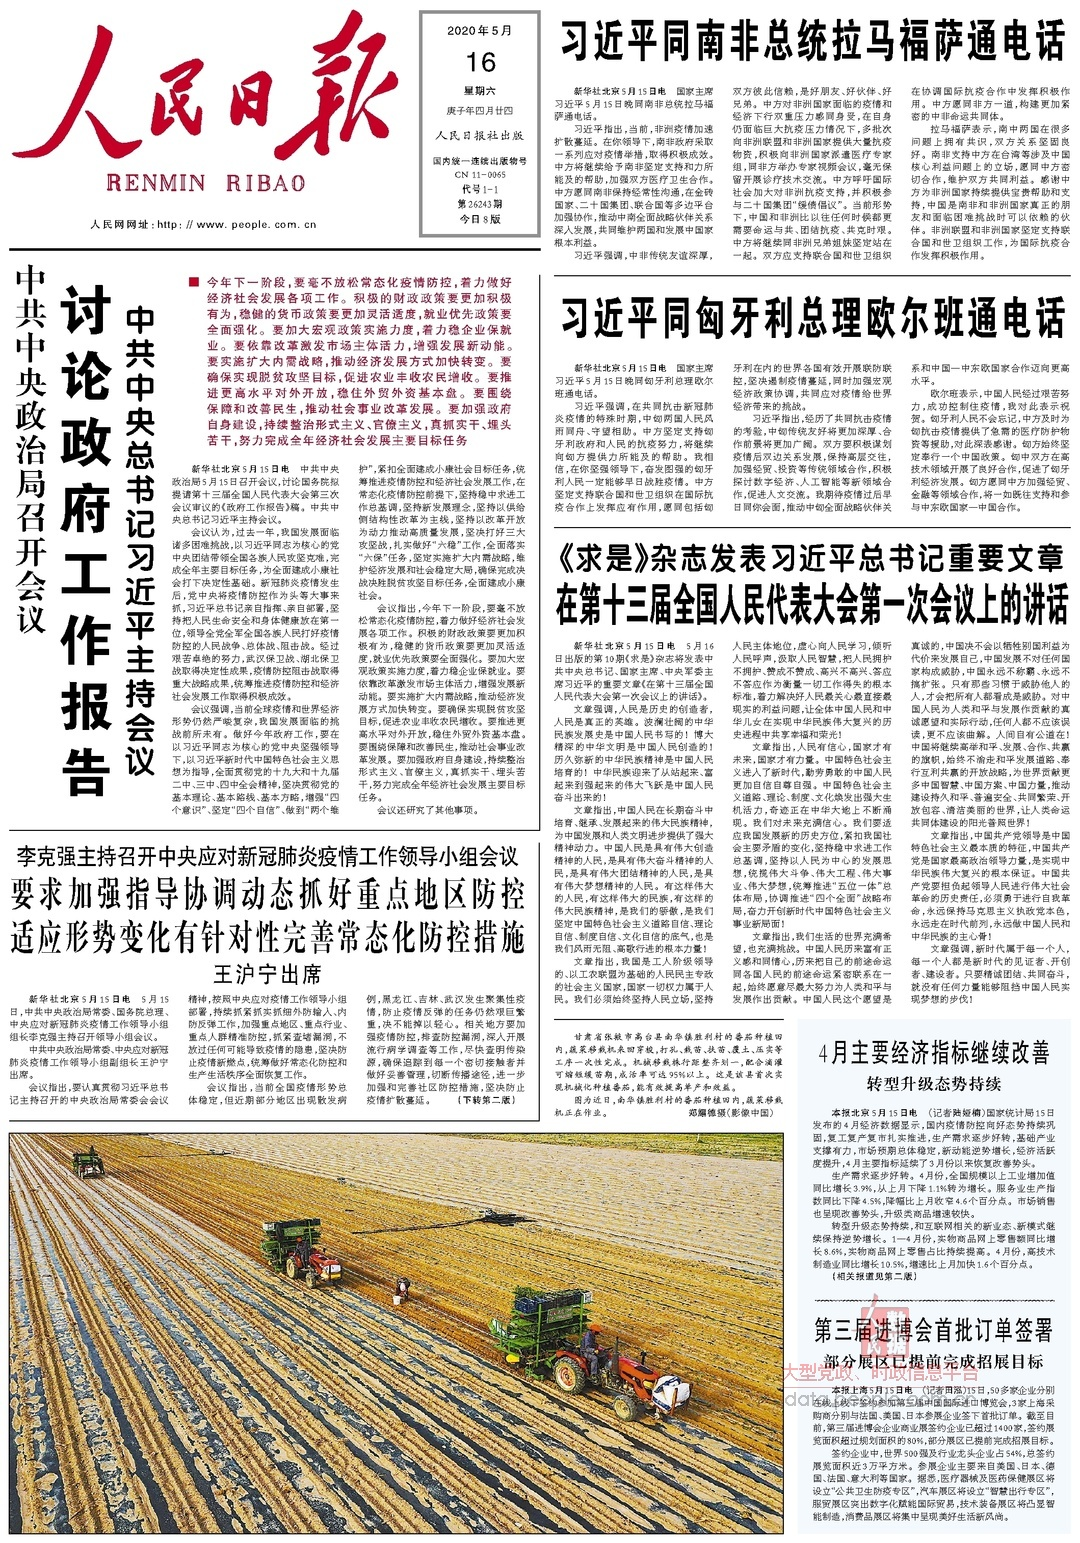pic: (5, 1131, 790, 1538)
